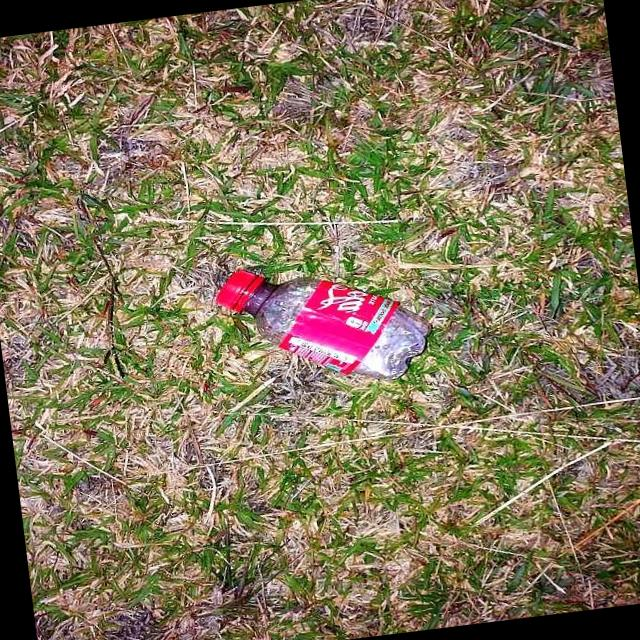Non-biodegradable: (196, 216, 448, 413)
